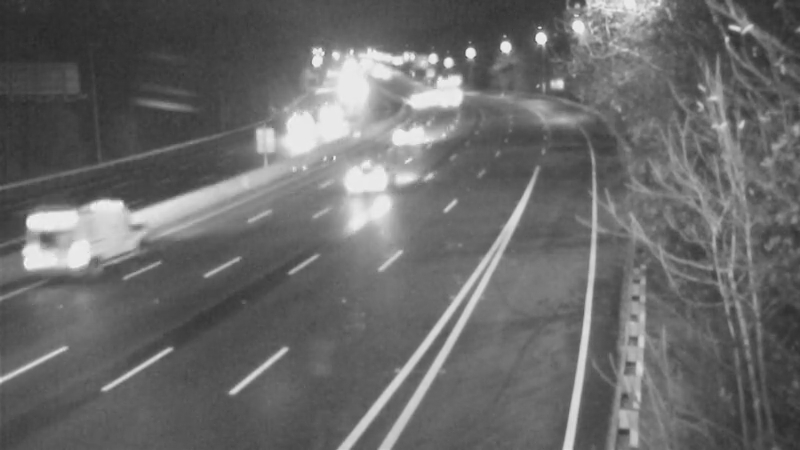vehicle: (334, 130, 414, 210), (12, 202, 92, 282), (422, 58, 472, 108), (425, 73, 475, 123), (384, 71, 434, 121), (380, 108, 430, 158), (273, 102, 323, 152), (310, 93, 360, 143)
